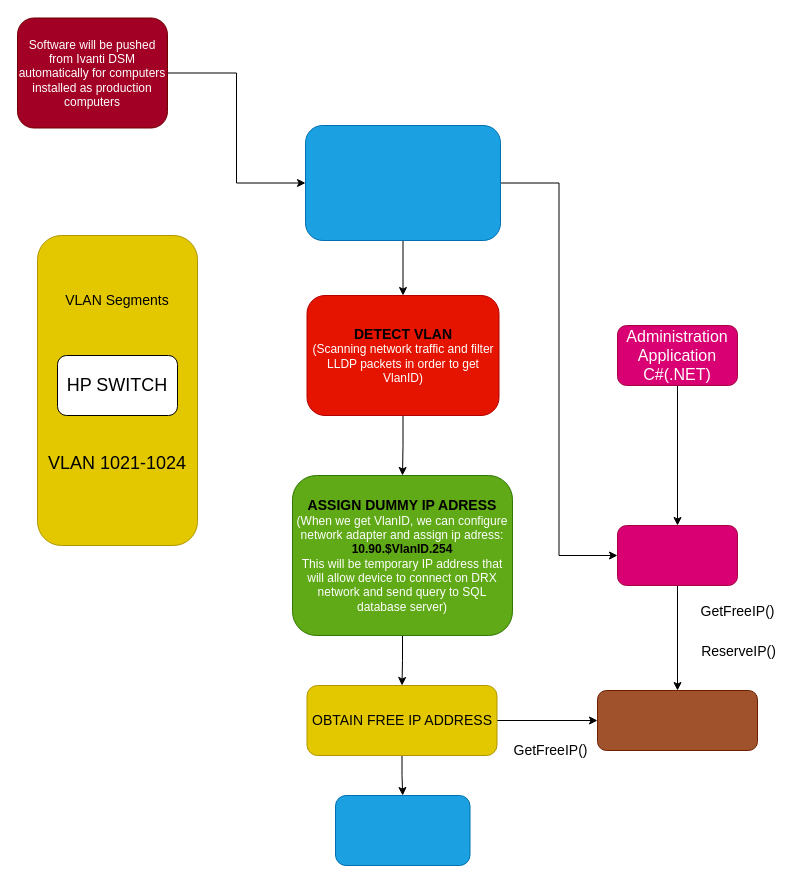
Some shapes in this 802 by 883 pixel diagram are drawn without their labels. Each missing label, with the centre of its shape:
"ADAPTIVE NETWORK AGENT (Windows Service)" goes at pixel 402 182.
"PRODUCTION PC" goes at pixel 402 830.
"SQL Client" goes at pixel 677 555.
"SQL DATABASE" goes at pixel 677 720.
